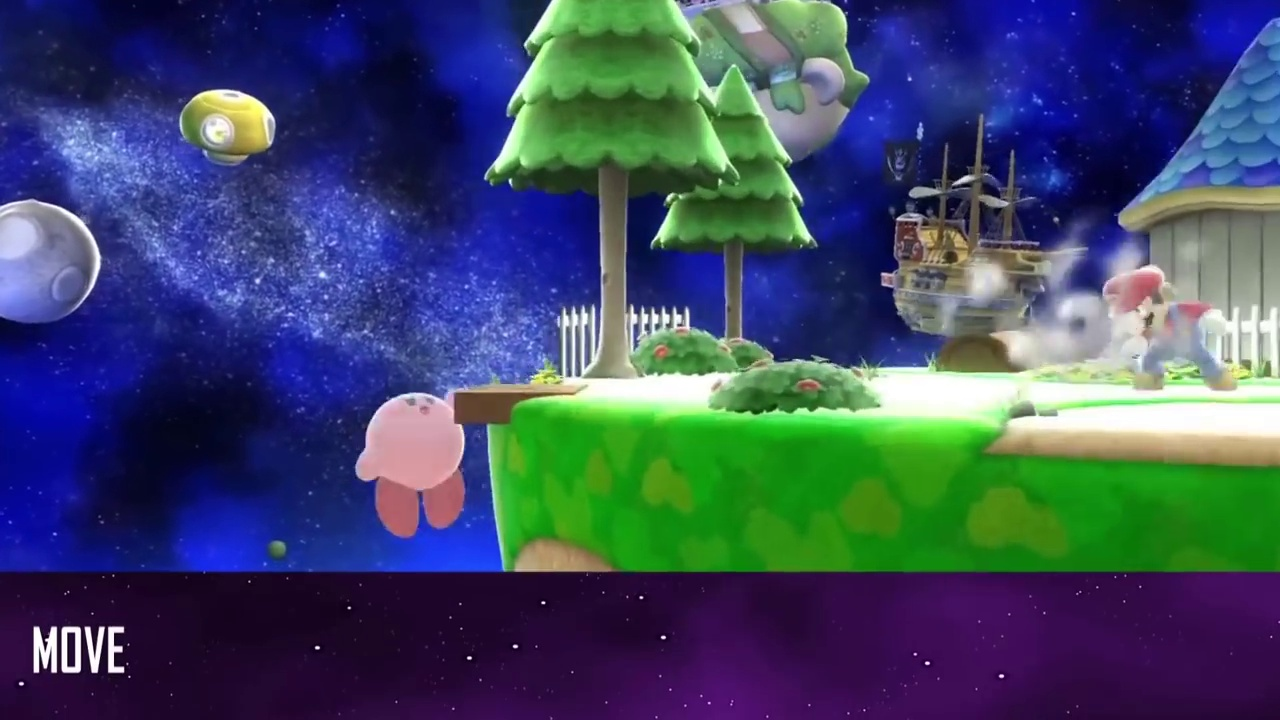Mario: (1104, 266, 1242, 392)
